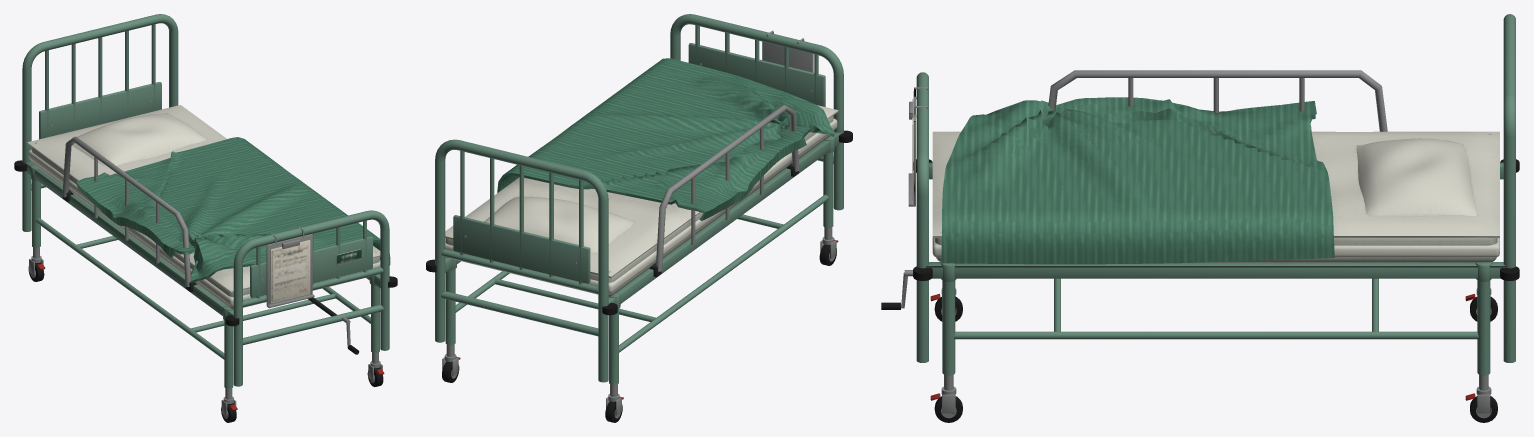
The model's file is CTCC_PROP_WardBed.fbx.
3 renders of one model, left to right at view 1: azimuth 30°, elevation 25°; view 2: azimuth 150°, elevation 25°; view 3: azimuth 270°, elevation 25°, orthographic. The views are drawn at different scales.
Visible parts, largest first — view 1: CTCC_PROP_WardBed_LOD0; view 2: CTCC_PROP_WardBed_LOD0; view 3: CTCC_PROP_WardBed_LOD0.
Part boxes in pixels (x1,y1,x2,y2): CTCC_PROP_WardBed_LOD0: [14, 14, 397, 422]; CTCC_PROP_WardBed_LOD0: [426, 14, 852, 422]; CTCC_PROP_WardBed_LOD0: [881, 14, 1519, 422].
Size of what is drawn, in the model's own units: 0.9517 by 1.14 by 2.09.
